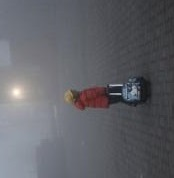person: (62, 77, 148, 111)
